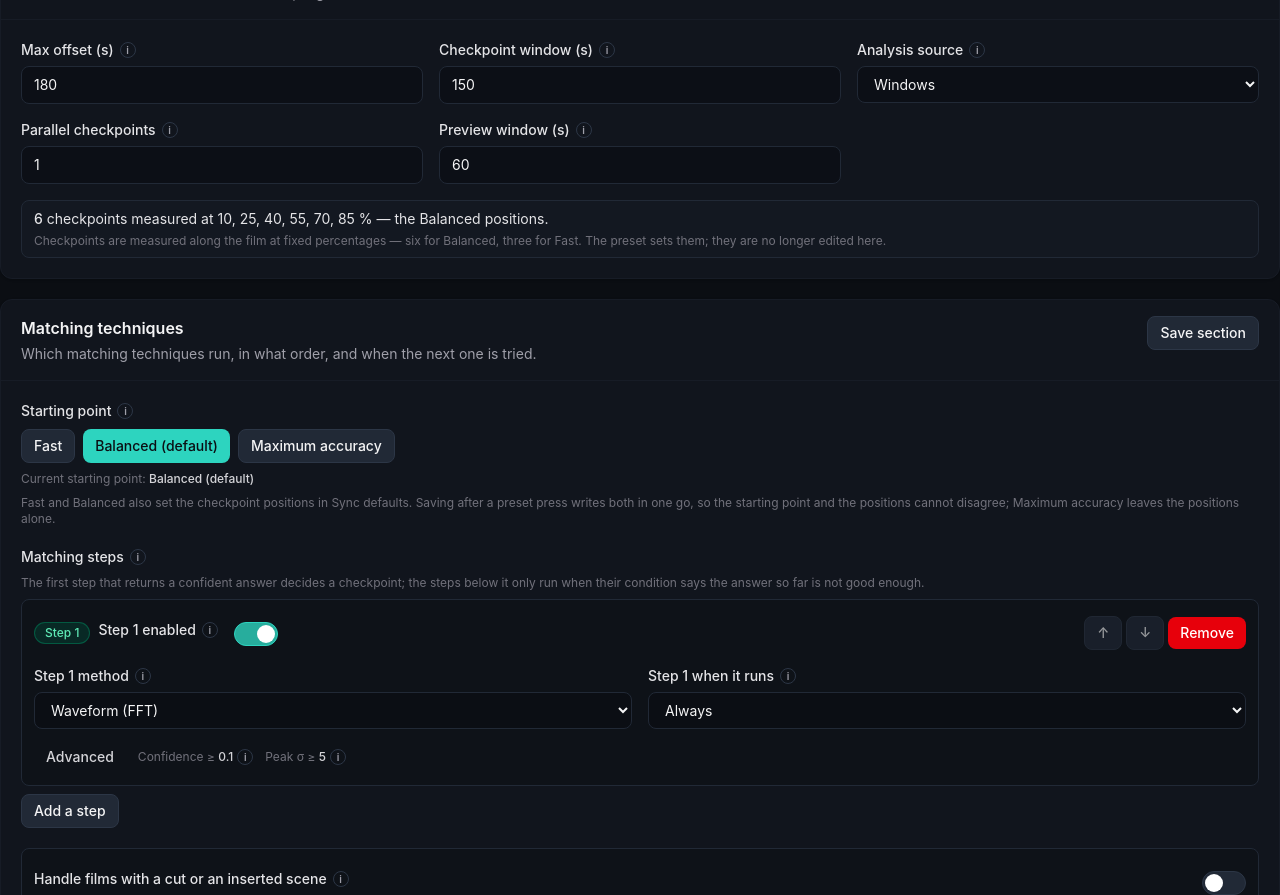
Test: matching techniques settings (#82) › writes the strategy and the checkpoint positions in one save when a preset is pressed
(page scrolled)
Expected: the heading "Matching techniques" is shown, [21,318,184,338]
Click the button "Fast".
click(48, 446)  # box [21,428,75,462]
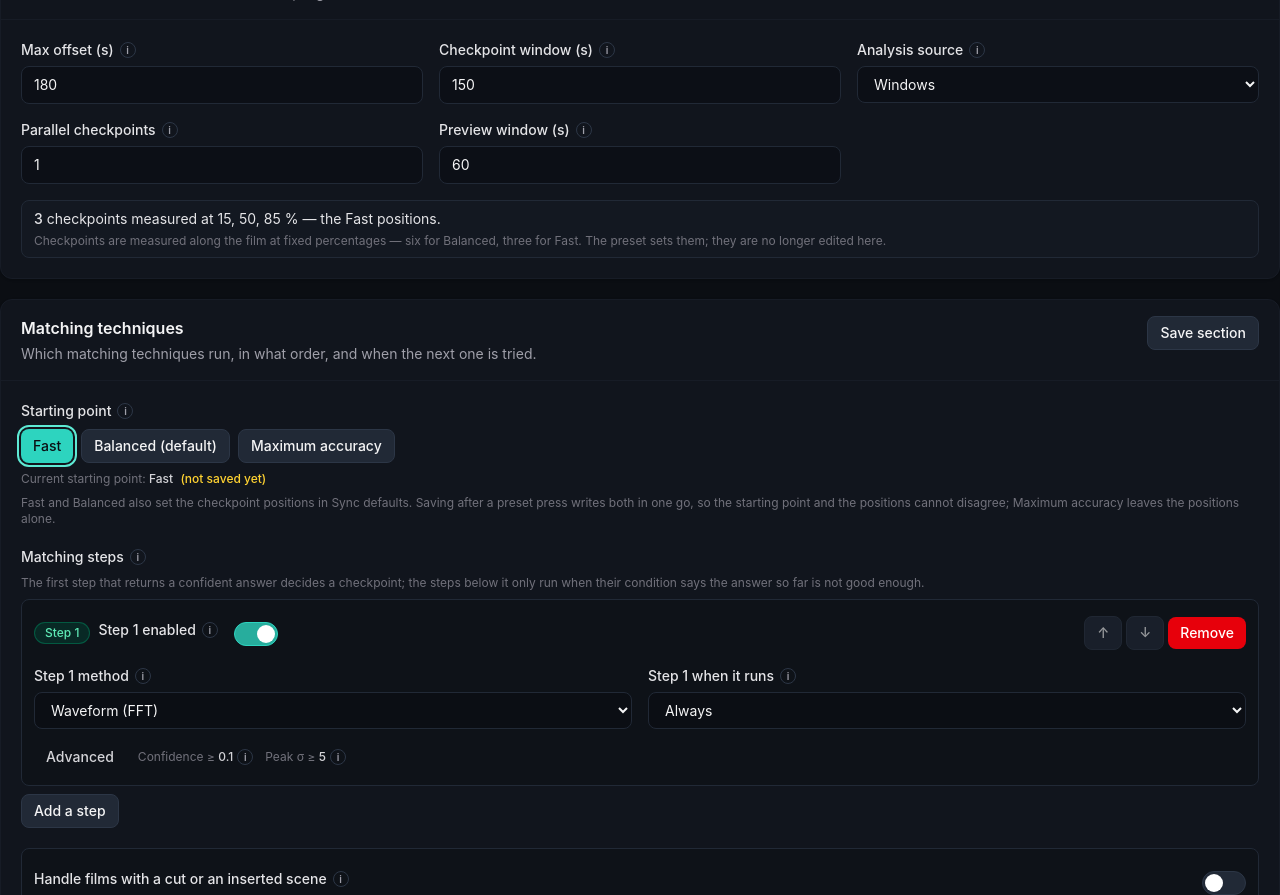
Result: the text with test id "strategy-preset-pending" shows "not saved" at [180,470,266,486]
Click the button with aria-label "Save Matching techniques".
click(1203, 332)  # box [1148,316,1259,350]
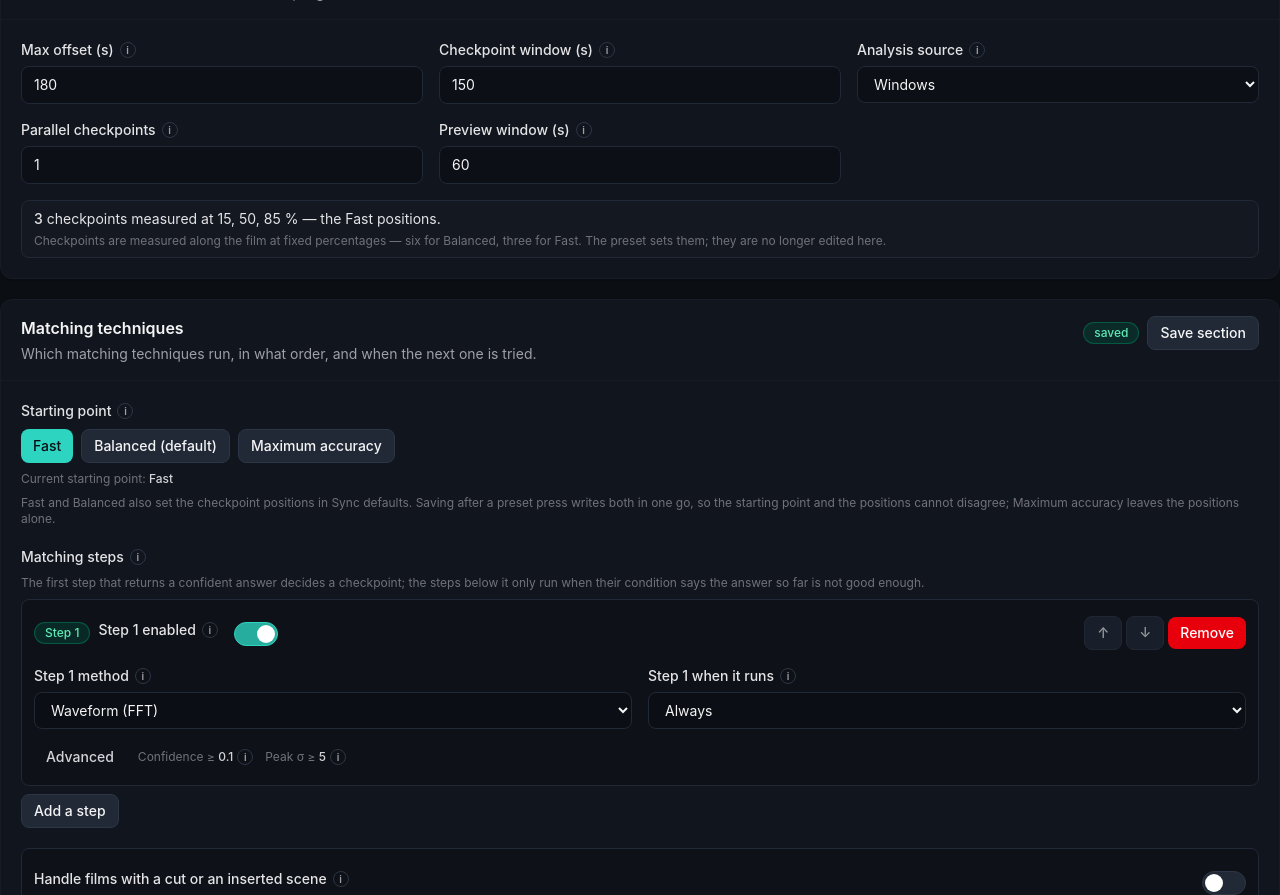
Expected: the text with test id "strategy-preset" reads "Fast", [149,470,173,486]
Result: the text with test id "strategy-preset-pending" is gone
